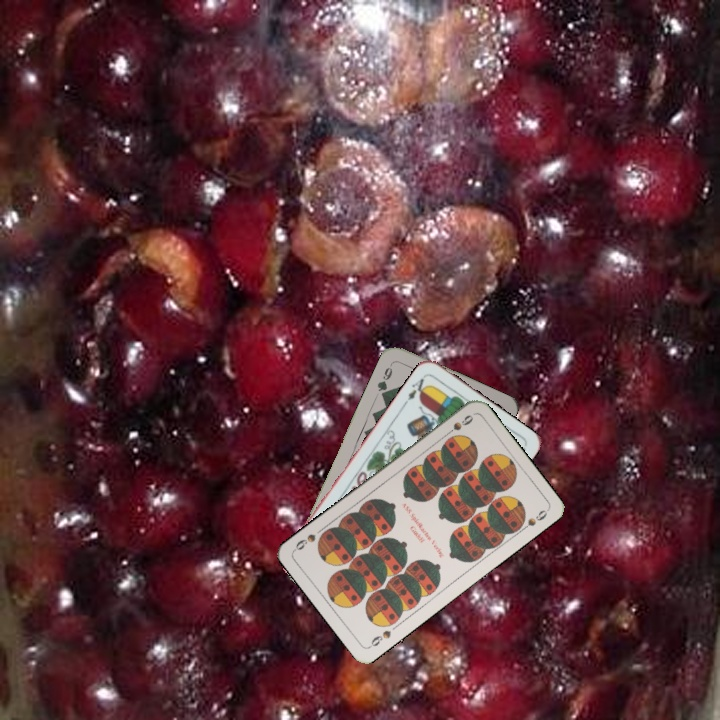EA: (400, 371, 430, 407)
G9: (373, 358, 396, 398)
S9: (440, 410, 476, 439), (365, 626, 394, 650)
